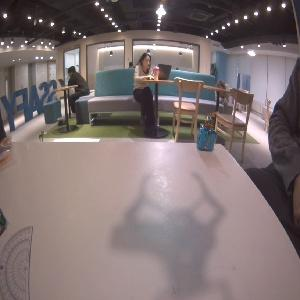box: (197, 125, 218, 152)
